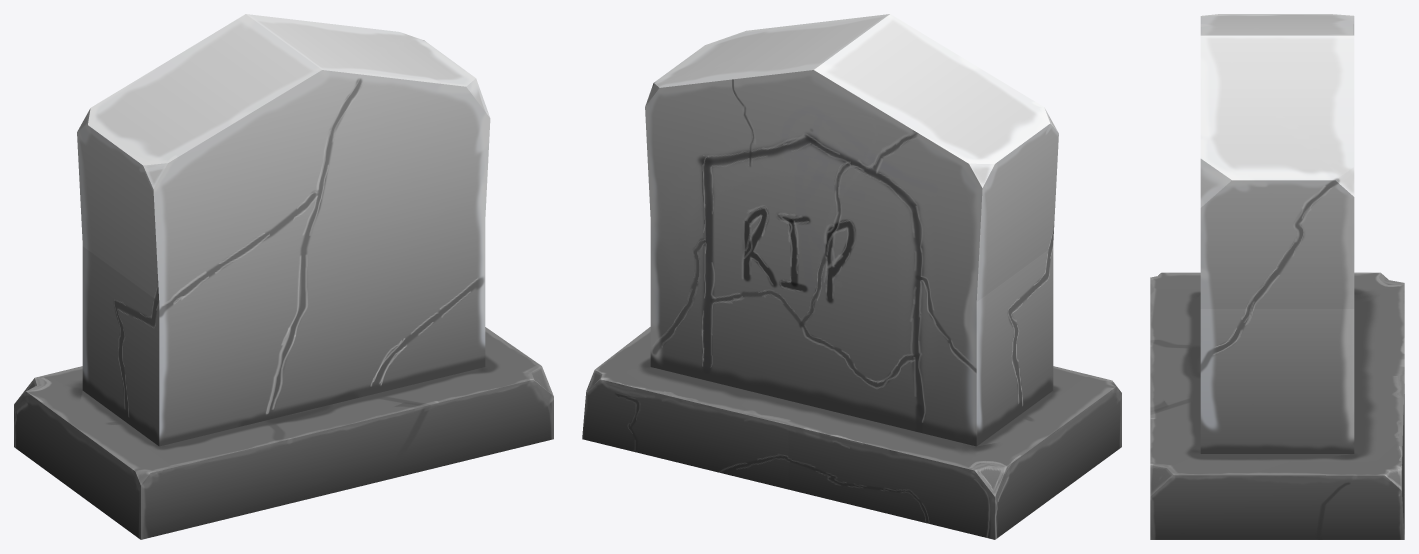
Rendered from Texture_paint.glb.
3 renders of one model, left to right at view 1: azimuth 30°, elevation 25°; view 2: azimuth 150°, elevation 25°; view 3: azimuth 270°, elevation 25°, orthographic.
Parts seen in each view (by area): view 1: Cube; view 2: Cube; view 3: Cube.
Boxes of the visible parts, x1,y1,x2,y2 form: Cube: (14,14,553,539); Cube: (582,14,1121,539); Cube: (1150,14,1404,539).
Bounding box in the file's own units: 2.26 × 2.1 × 1.2.
Materials: 1 (1 with a texture image).
